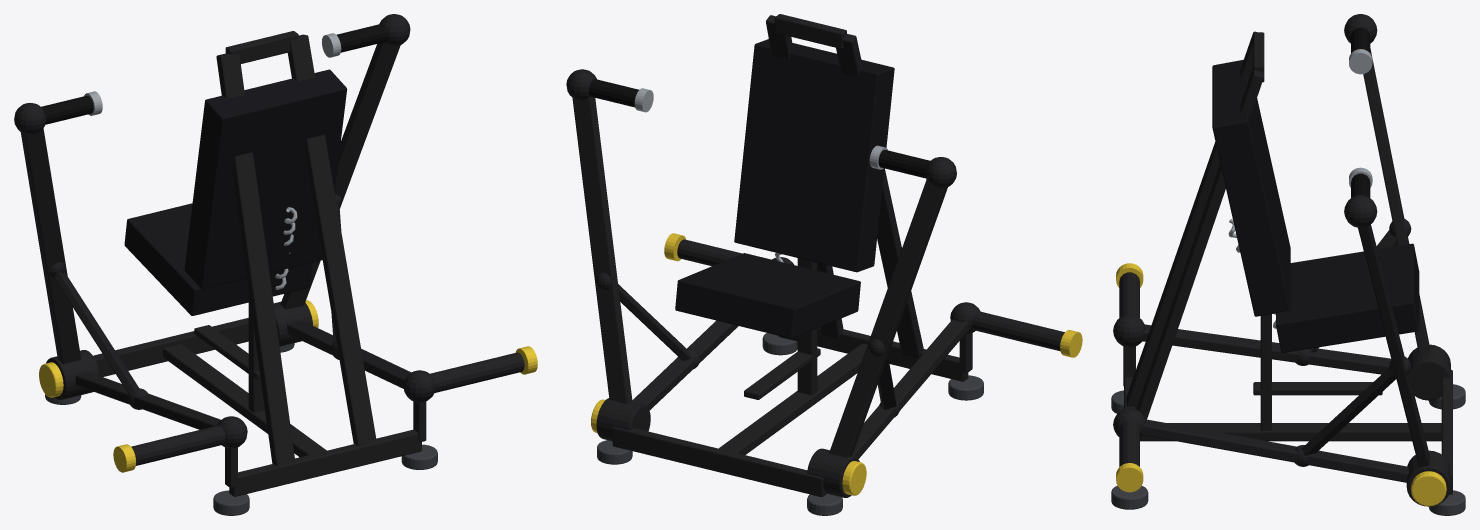
The model's file is chestpress.glb.
3 views of the same model, side by side, from view 1: azimuth 30°, elevation 25°; view 2: azimuth 150°, elevation 25°; view 3: azimuth 270°, elevation 25° (orthographic). The views are drawn at different scales.
Visible parts, largest first — view 1: Cube.007, Cube.003, Cube.004, Cube.006, Cube.011, Cube.001, Cube.016, Cube.002, Cube, Cube.012, Cylinder.012, Cylinder.018 (+16 smaller); view 2: Cube.007, Cube.006, Cube.016, Cube.011, Cube, Cube.003, Cube.002, Cube.012, Cube.017, Cube.001, Cylinder.012, Cylinder.014 (+17 smaller); view 3: Cube.007, Cube.006, Cube.017, Cube.004, Cube.003, Cube.002, Cube.016, Cube.012, Cube.011, Cylinder.008, Cube.019, Cube.008 (+18 smaller).
Boxes of the visible parts, x1,y1,x2,y2 form: Cube.007: (184, 69, 347, 289); Cube.003: (216, 53, 295, 466); Cube.004: (287, 34, 376, 446); Cube.006: (124, 203, 312, 315); Cube.011: (20, 128, 81, 364); Cube.001: (229, 429, 421, 496); Cube.016: (280, 42, 400, 309); Cube.002: (163, 344, 326, 457); Cube: (93, 318, 248, 376); Cube.012: (75, 372, 220, 429); Cylinder.012: (131, 425, 225, 465); Cylinder.018: (430, 352, 524, 392); Cube.007: (734, 39, 894, 272); Cube.006: (675, 253, 860, 338); Cube.016: (572, 96, 632, 404); Cube.011: (829, 180, 947, 457); Cube: (612, 426, 826, 497); Cube.003: (836, 34, 923, 358); Cube.002: (719, 343, 867, 454); Cube.012: (852, 319, 968, 458); Cube.017: (632, 320, 738, 410); Cube.001: (778, 327, 968, 381); Cylinder.012: (972, 311, 1064, 351); Cylinder.014: (596, 398, 650, 441); Cube.007: (1212, 59, 1290, 316); Cube.006: (1276, 243, 1419, 352); Cube.017: (1141, 419, 1408, 482); Cube.004: (1136, 67, 1263, 439); Cube.003: (1126, 31, 1256, 409); Cube.002: (1140, 423, 1441, 441); Cube.016: (1358, 224, 1430, 467); Cube.012: (1142, 324, 1391, 374); Cube.011: (1363, 48, 1430, 356); Cylinder.008: (1408, 344, 1450, 400); Cube.019: (1301, 368, 1396, 455); Cube.008: (1253, 382, 1382, 395).
Bounding box in the file's own units: 1.31 × 1.22 × 0.96.
